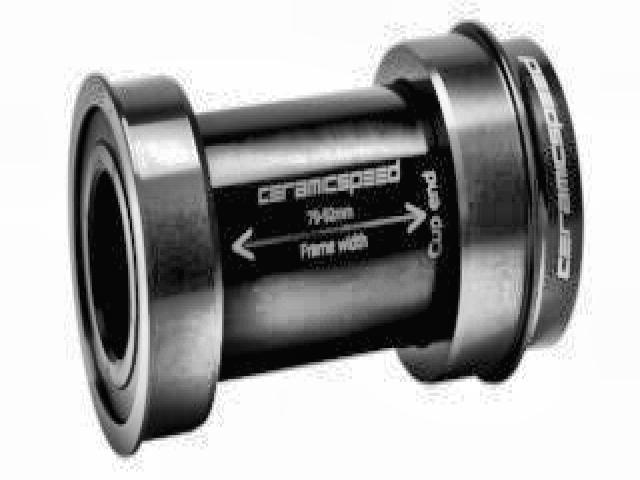bottom_bracket: (66, 18, 586, 460)
